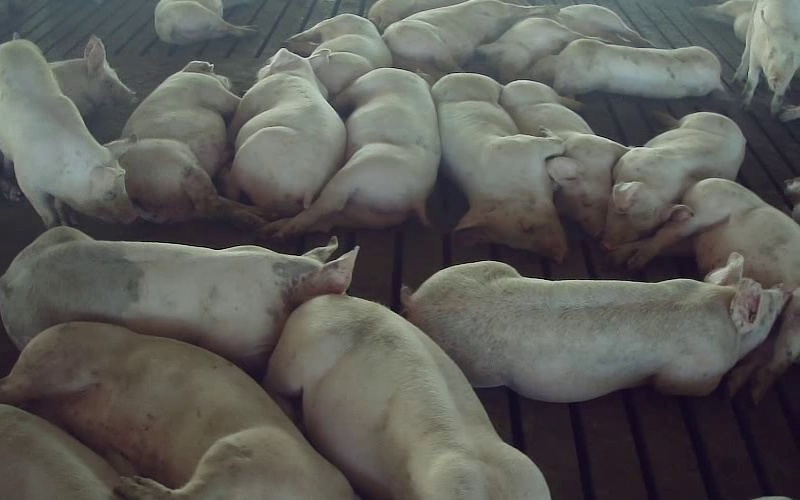pig: (265, 295, 549, 499), (403, 254, 786, 401), (0, 227, 357, 376), (614, 178, 799, 398), (275, 68, 440, 235), (432, 73, 566, 261), (120, 61, 260, 224), (224, 49, 345, 216), (500, 80, 627, 237), (603, 112, 745, 248), (383, 0, 558, 80), (473, 4, 651, 82), (527, 39, 723, 98), (284, 14, 392, 96)
